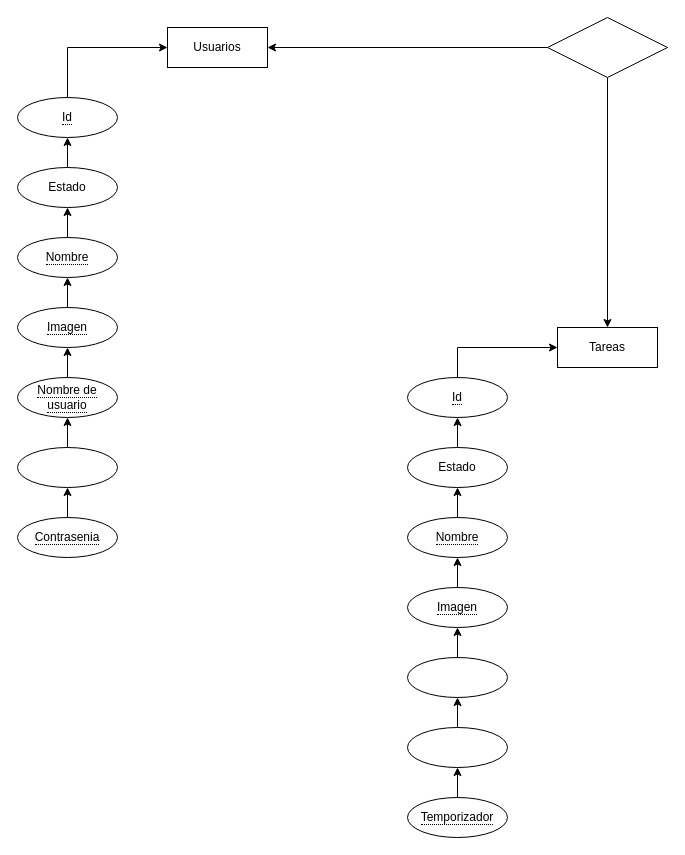
Some shapes in this 685 by 855 pixel diagram are drawn without their labels. Here are the shapes that lost their labels. From the top down, the centre of each, then its label:
the point at 607,47: M:M
the point at 67,467: Correo
the point at 457,677: Fecha de inicio
the point at 457,747: Fecha de fin
